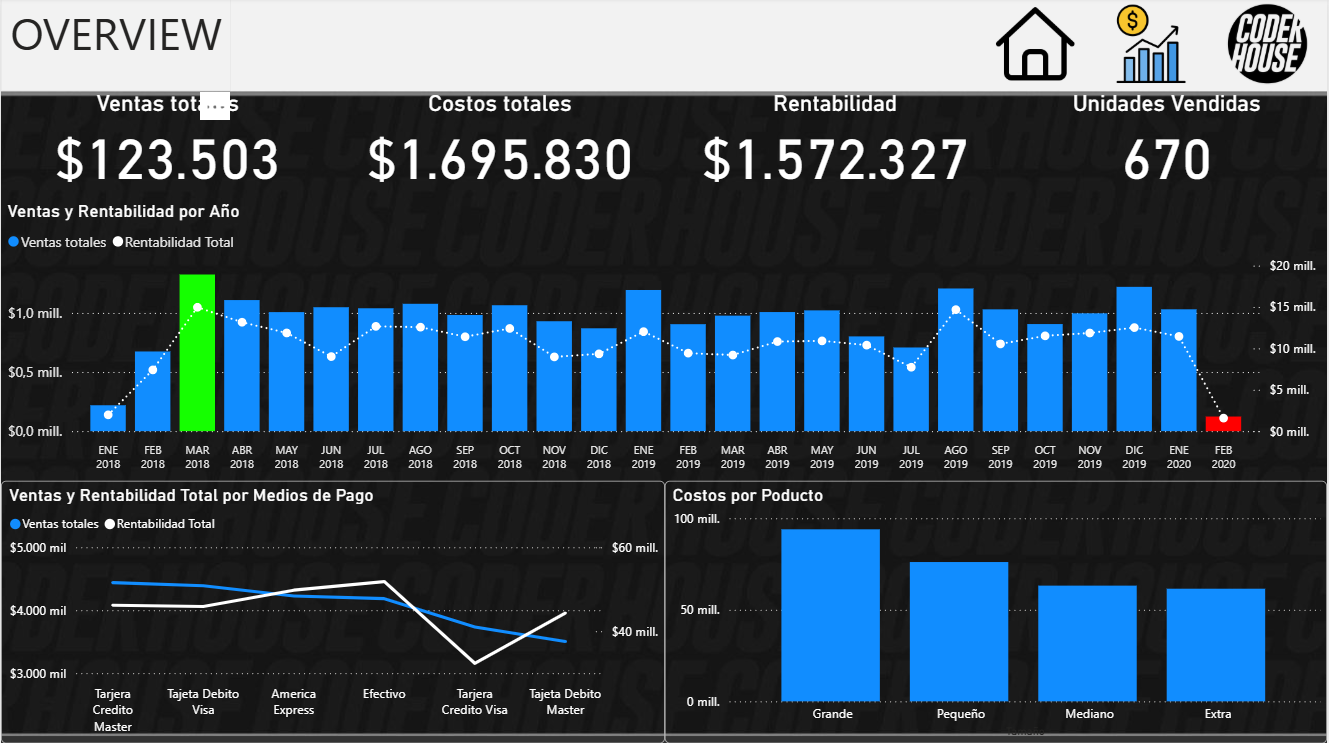

This screenshot's page, from the dashboard's own definition file:
{"tool":"powerbi","page":{"name":"OVERVIEW ","canvas":[1280,720],"ordinal":1},"visuals":[{"type":"image","box":[1163.6,0,116.2,90.7],"z":0},{"type":"image","box":[938.3,0,119.1,90.7],"z":1000},{"type":"image","box":[1057.3,0,106.3,90.7],"z":2000},{"type":"textbox","box":[0,0,222.5,90.7],"z":3000},{"type":"kpi","title":"Ventas totales","fields":{"Indicator":["DIM MEDIDAS.Ventas totales"],"TrendLine":["DIM FECHAS.Mes y Año"]},"box":[0,90.7,321.7,106.3],"z":4000},{"type":"kpi","title":"Costos totales","fields":{"TrendLine":["DIM FECHAS.Mes y Año"],"Indicator":["DIM MEDIDAS.Costos Totales"]},"box":[321.7,90.7,318.9,106.3],"z":5000},{"type":"kpi","title":"Rentabilidad","fields":{"TrendLine":["DIM FECHAS.Mes y Año"],"Indicator":["DIM MEDIDAS.Rentabilidad Total"]},"box":[640.6,90.7,328.8,106.3],"z":6000},{"type":"kpi","title":"Unidades Vendidas","fields":{"TrendLine":["DIM FECHAS.Mes y Año"],"Indicator":["MEDIDAS.Total de cantidades vendidas"]},"box":[969.4,90.7,310.4,106.3],"z":7000},{"type":"lineStackedColumnComboChart","title":"Ventas y Rentabilidad por Año","fields":{"Category":["DIM FECHAS.Mes y Año"],"Y2":["DIM MEDIDAS.Rentabilidad Total"],"Y":["DIM MEDIDAS.Ventas totales"]},"box":[1.4,197,1278.4,269.3],"z":8000},{"type":"lineChart","title":"Ventas y Rentabilidad Total por Medios de Pago","fields":{"Y":["DIM MEDIDAS.Ventas totales"],"Y2":["DIM MEDIDAS.Rentabilidad Total"],"Category":["DIM MEDIOS DE PAGO.Descripción"]},"box":[0,466.3,640.6,253.7],"z":9000},{"type":"clusteredColumnChart","title":"Costos por Poducto","fields":{"Category":["DIM PRODUCTO.Tamaño "],"Y":["Sum(FACT VENTAS.Total de Costo)"]},"box":[640.6,466.3,639.2,253.7],"z":10000}]}

Visuals, with their boxes in screenshot pixels (x1, y1, x2, y2), scaled from the page's 1280x720 canvas onto the 1329x743 screenshot:
image: (1208,0,1328,94)
image: (974,0,1098,94)
image: (1098,0,1208,94)
textbox: (0,0,231,94)
"Ventas totales" kpi: (0,94,334,203)
"Costos totales" kpi: (334,94,665,203)
"Rentabilidad" kpi: (665,94,1007,203)
"Unidades Vendidas" kpi: (1007,94,1328,203)
"Ventas y Rentabilidad por Año" lineStackedColumnComboChart: (1,203,1328,481)
"Ventas y Rentabilidad Total por Medios de Pago" lineChart: (0,481,665,742)
"Costos por Poducto" clusteredColumnChart: (665,481,1328,742)
